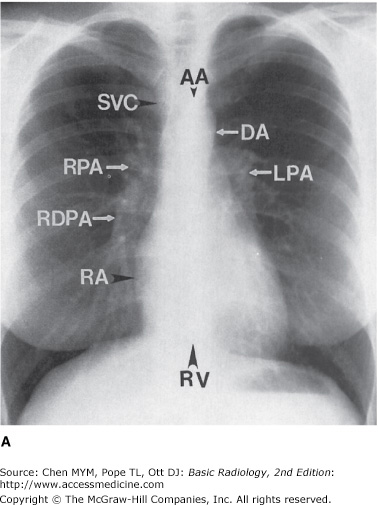telestration: (1, 468, 336, 493), (35, 207, 95, 225), (62, 157, 103, 178), (271, 163, 314, 182), (97, 92, 138, 110), (239, 121, 270, 143), (177, 67, 212, 85), (179, 370, 211, 389), (79, 266, 108, 285), (183, 342, 200, 368), (247, 165, 270, 179), (104, 161, 129, 172), (137, 96, 157, 109), (111, 272, 132, 282), (213, 129, 238, 136), (93, 213, 112, 221), (188, 84, 199, 97), (1, 435, 11, 445)
